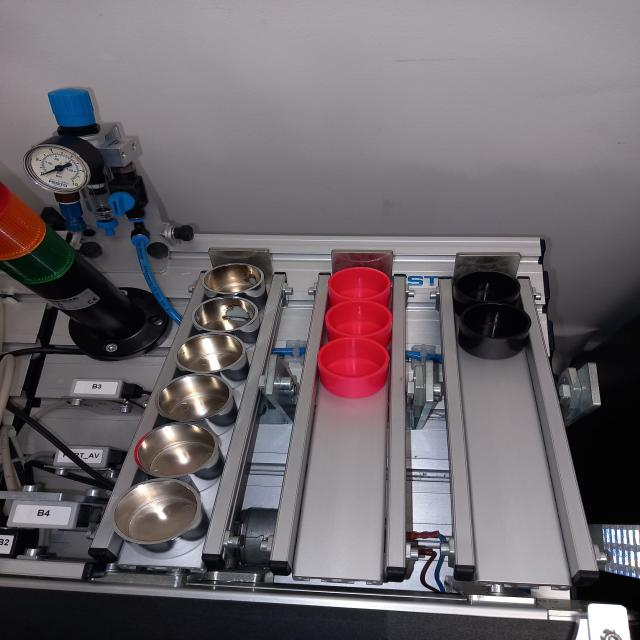NoLid: (114, 481, 207, 552), (128, 423, 227, 487), (315, 336, 396, 401), (155, 373, 239, 433), (454, 302, 530, 361), (172, 332, 250, 385), (322, 300, 396, 340), (193, 298, 261, 339), (200, 264, 271, 302), (323, 265, 393, 303), (453, 270, 523, 306)
